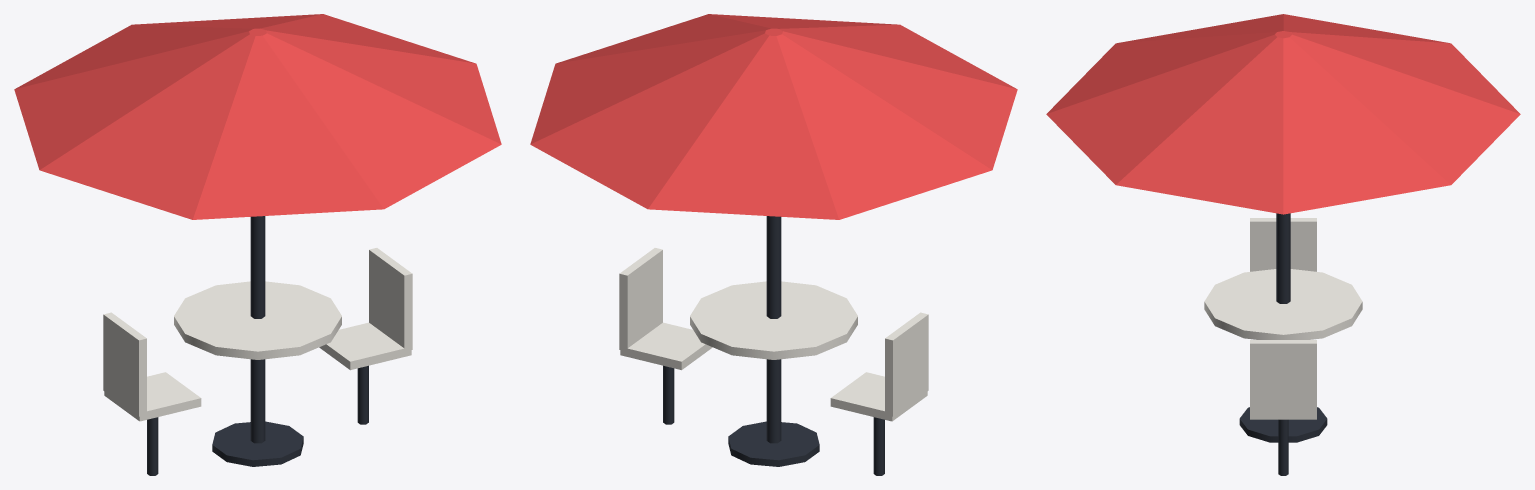
File: cafe_table.glb
3 views of the same model, side by side, from view 1: azimuth 30°, elevation 25°; view 2: azimuth 150°, elevation 25°; view 3: azimuth 270°, elevation 25° (orthographic). The views are drawn at different scales.
Visible parts, largest first — view 1: cafe_table_umbrella, cafe_table_base; view 2: cafe_table_umbrella, cafe_table_base; view 3: cafe_table_umbrella, cafe_table_base.
Boxes of the visible parts, x1,y1,x2,y2 form: cafe_table_umbrella: [14, 14, 501, 219]; cafe_table_base: [103, 216, 412, 475]; cafe_table_umbrella: [530, 14, 1017, 219]; cafe_table_base: [619, 216, 928, 475]; cafe_table_umbrella: [1046, 14, 1520, 214]; cafe_table_base: [1204, 213, 1362, 475].
Bounding box in the file's own units: 2.7 × 2.46 × 2.7.
